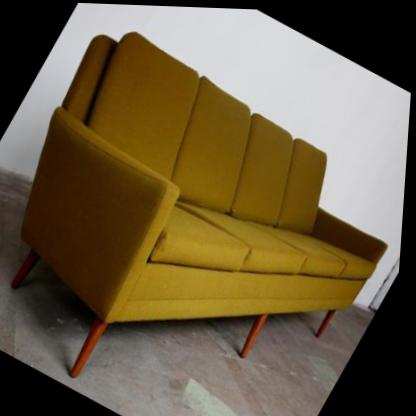Sofa: (0, 9, 416, 416)
